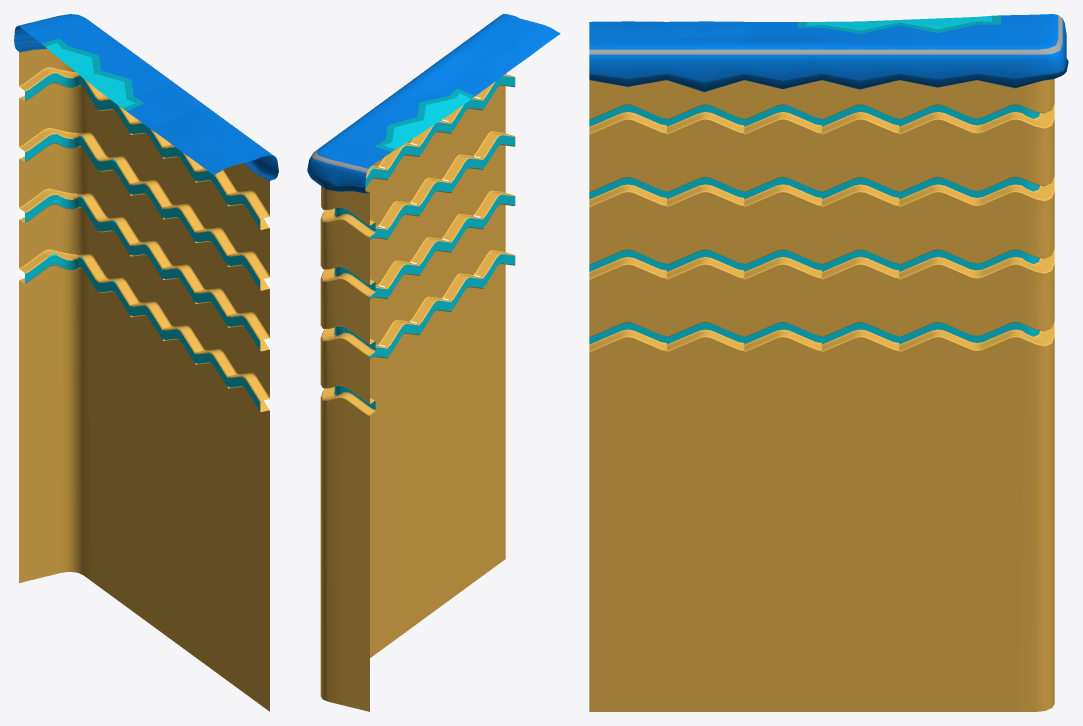
File: V2_Ground_Right.fbx
3 views of the same model, side by side, from view 1: azimuth 30°, elevation 25°; view 2: azimuth 150°, elevation 25°; view 3: azimuth 270°, elevation 25° (orthographic). The views are drawn at different scales.
Visible parts, largest first — view 1: V2_Ground_Right; view 2: V2_Ground_Right; view 3: V2_Ground_Right.
Part boxes in pixels (x1,y1,x2,y2): V2_Ground_Right: (14, 14, 278, 711); V2_Ground_Right: (307, 14, 560, 711); V2_Ground_Right: (589, 14, 1068, 711).
Bounding box in the file's own units: 232 × 1893 × 1236.
